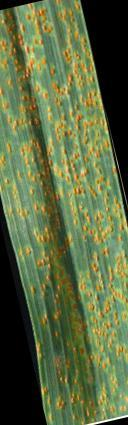Wheat: (47, 265, 128, 410), (0, 85, 98, 189), (14, 192, 119, 256), (6, 17, 86, 81)
